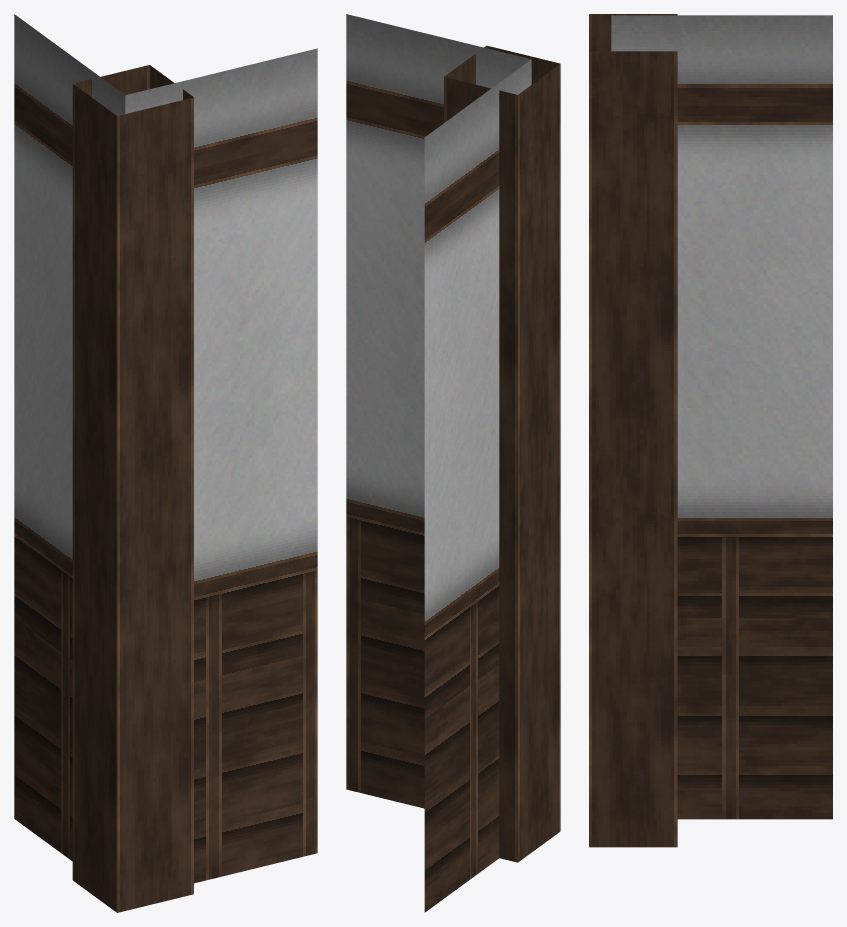
File: house_wall_a_corner_1.glb
The picture shows the model from 3 angles, left to right: view 1: azimuth 30°, elevation 25°; view 2: azimuth 150°, elevation 25°; view 3: azimuth 270°, elevation 25°; orthographic projection. The views are drawn at different scales.
Parts seen in each view (by area): view 1: house_wall_a_corner_1; view 2: house_wall_a_corner_1; view 3: house_wall_a_corner_1.
Part boxes in pixels (<box>): house_wall_a_corner_1: <box>14,14,317,912</box>; house_wall_a_corner_1: <box>346,14,560,912</box>; house_wall_a_corner_1: <box>589,14,832,847</box>.
Bounding box in the file's own units: 1.1 × 4 × 1.1.
Materials: 2 (2 with a texture image).
